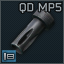HK MP5 B&T QD Muzzle Brake: (0, 0, 64, 64)
